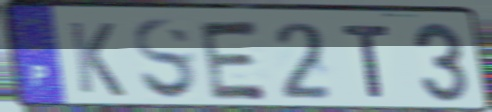2: (272, 20, 333, 102)
3: (411, 19, 470, 105)
E: (196, 18, 272, 103)
K: (66, 18, 129, 100)
S: (130, 15, 201, 103)
T: (339, 23, 394, 101)
